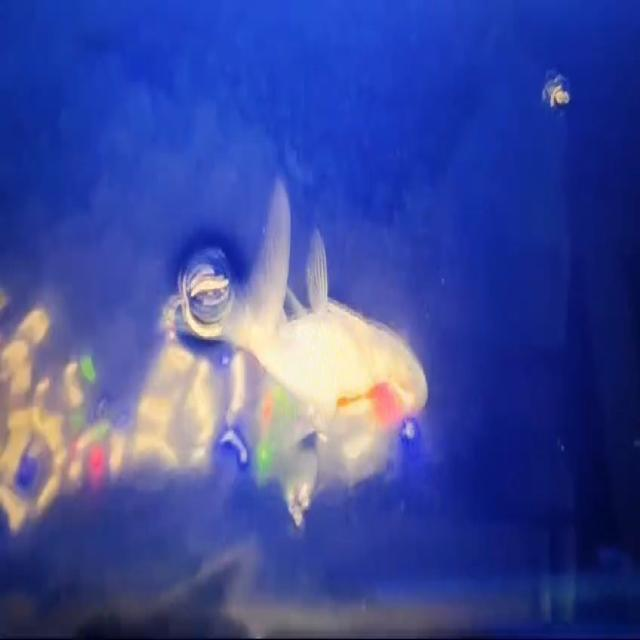fish: (201, 158, 428, 475)
